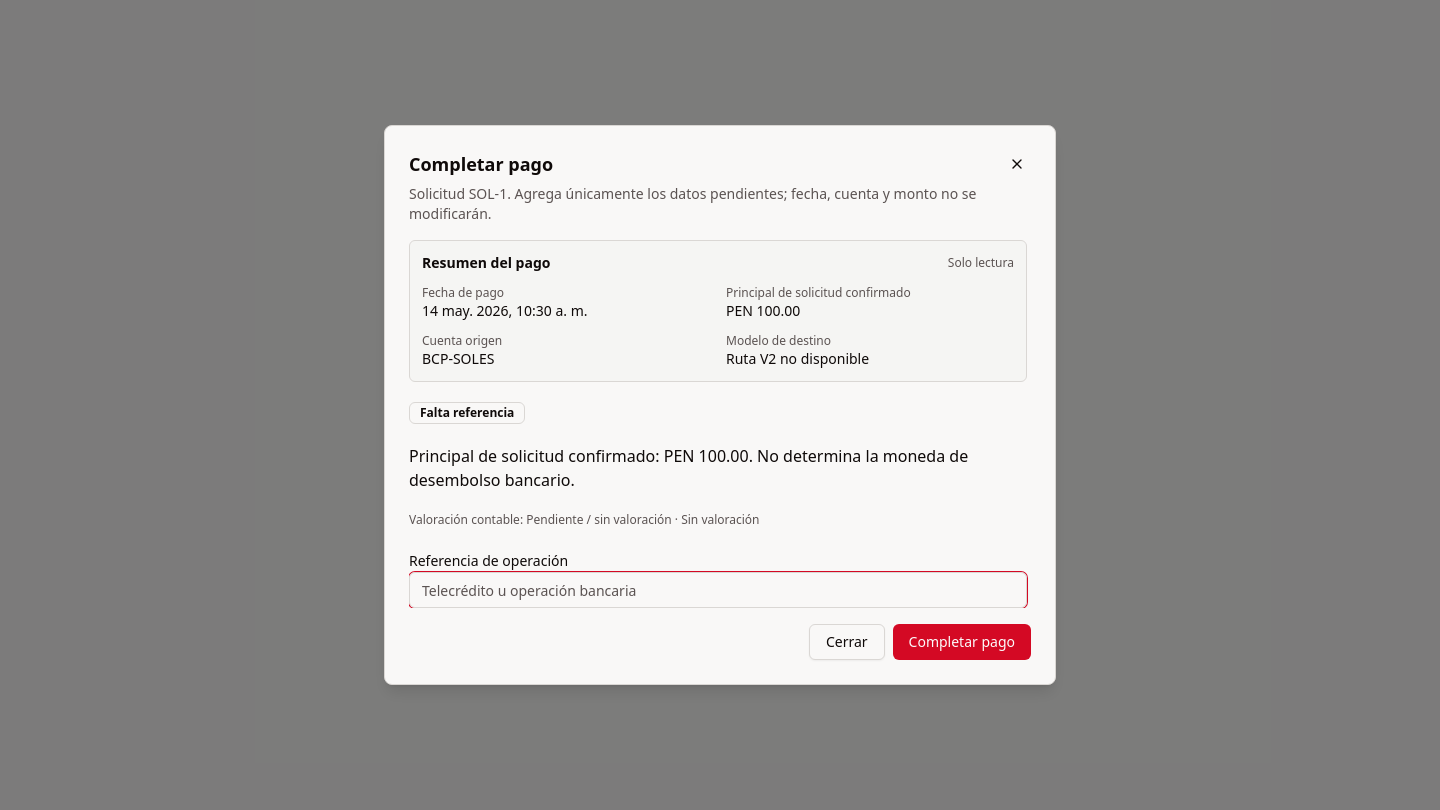
CompletePaymentDetailsModal › keeps the entered reference when PATCH fails
The width and height of the screenshot is (1440, 810).
Type "OP-ERROR" into the field labelled "Referencia de operación".
click(718, 590); type("OP-ERROR")  # box [409,572,1027,608]
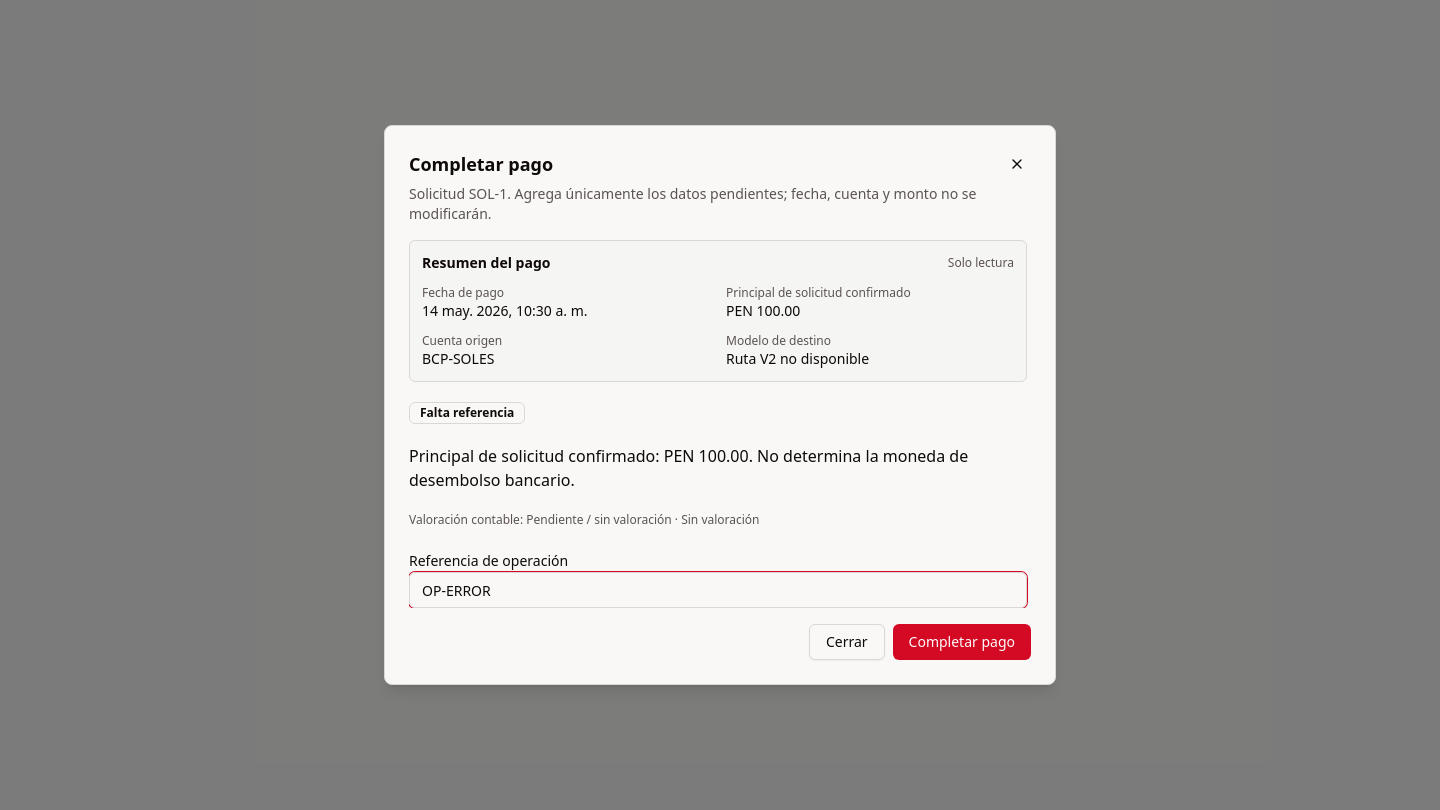
Click the button "Completar pago".
click(962, 642)  # box [893,624,1031,660]
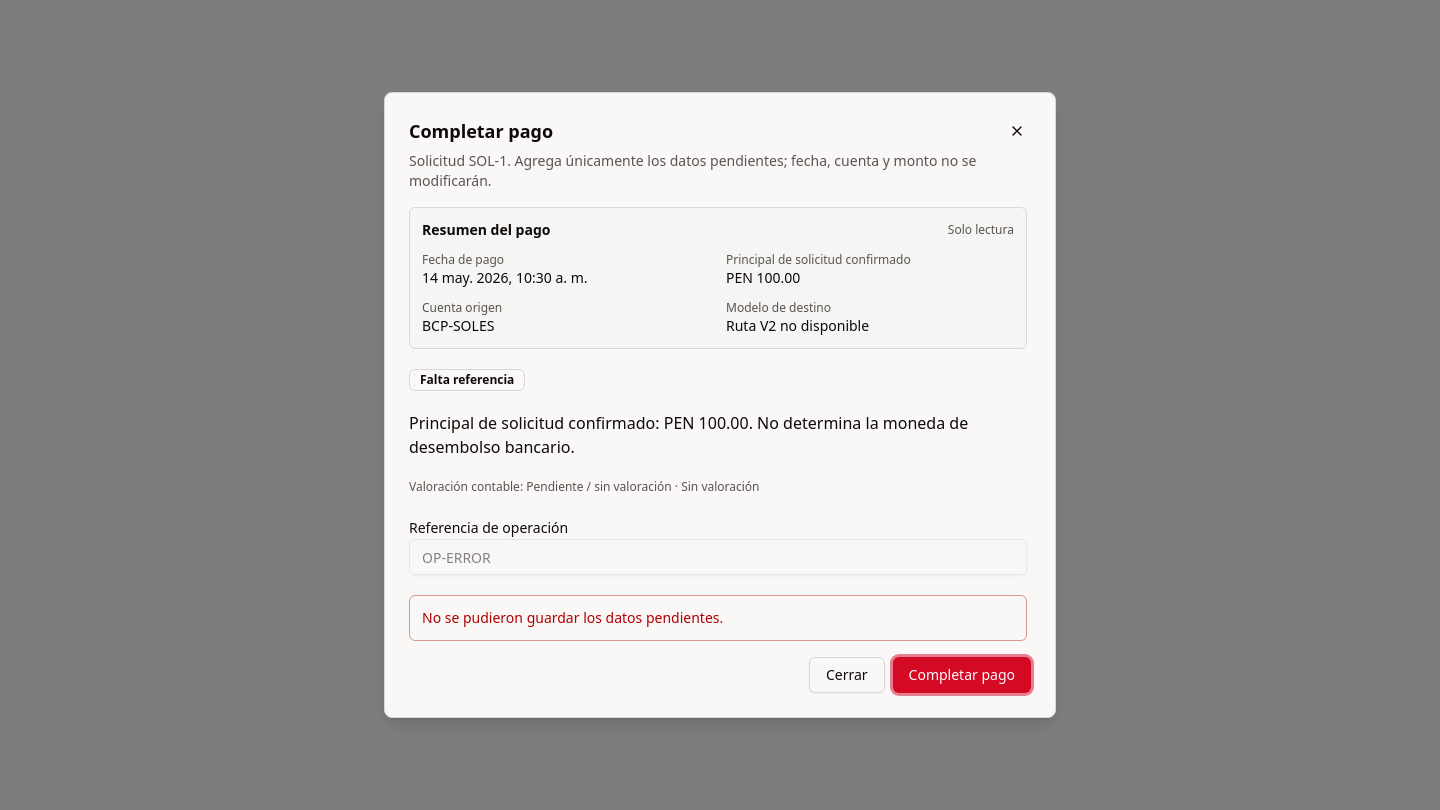
Check: the message reads "No se pudieron guardar los datos pendientes.", box [422,608,723,627]
